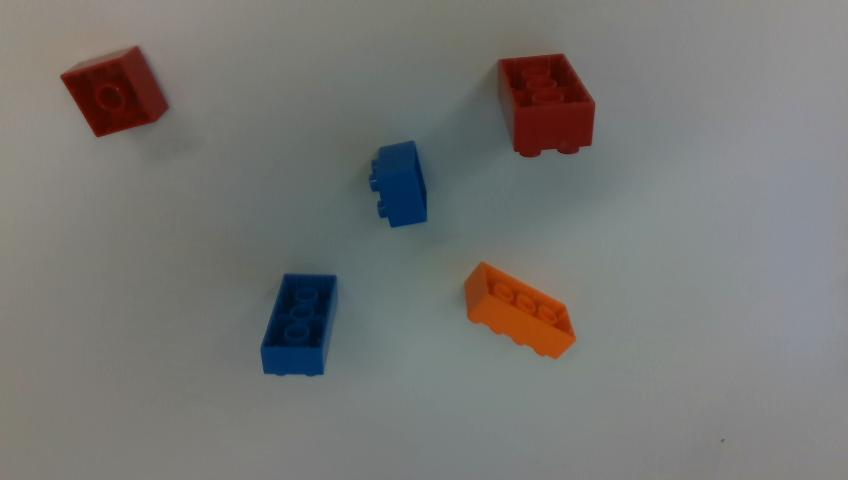2x2_blue: (369, 143, 426, 227)
2x2_red: (62, 47, 168, 136)
4x2_blue: (261, 274, 336, 374)
4x2_orange: (465, 262, 574, 358)
4x2_red: (498, 55, 594, 157)
